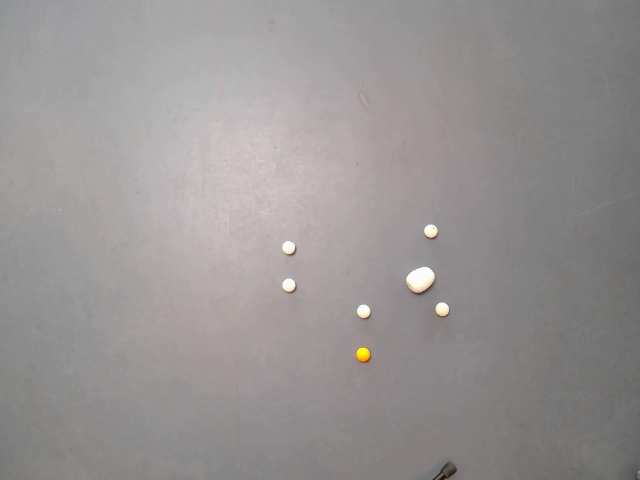egg: (405, 266, 436, 292)
orange: (355, 346, 370, 361)
white: (355, 303, 370, 319), (281, 277, 296, 292), (435, 302, 450, 317), (424, 223, 438, 238), (282, 240, 296, 254)
